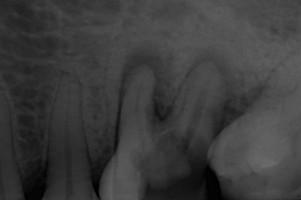Dental Caries: (113, 40, 181, 153), (218, 84, 266, 132)
Furcation Involvement: (181, 45, 241, 94)
